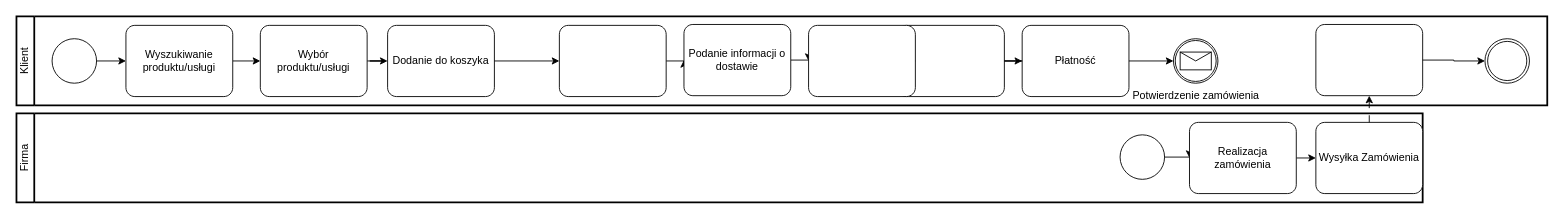
Image size: 1563x218. Some labels were removed from this diagram. The shapes that lost their labels are listed below. From the top down, each one's centre as x and y in pixels, then its label:
the point at 74,60: Identyfikacja potrzeby
the point at 612,60: Przejście do kasy
the point at 861,60: Wybór metody płatności
the point at 950,60: Zatwierdzenie zamówienia
the point at 1369,60: Dostawa
